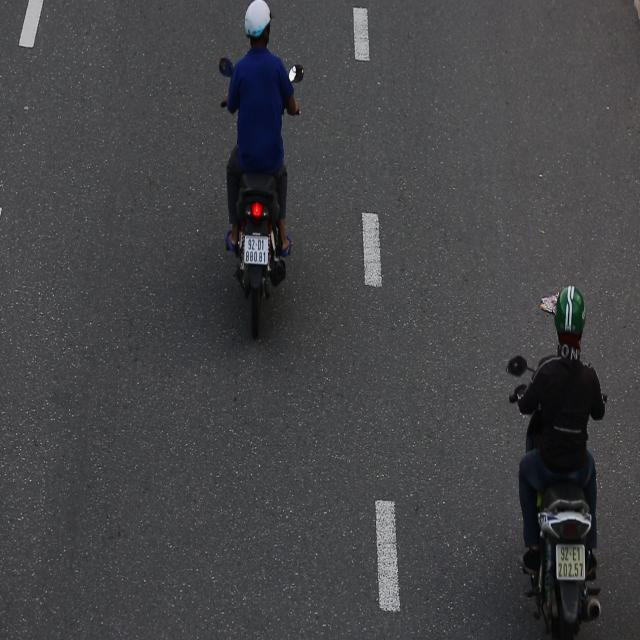motorbike: (509, 273, 617, 640), (210, 0, 307, 366)
